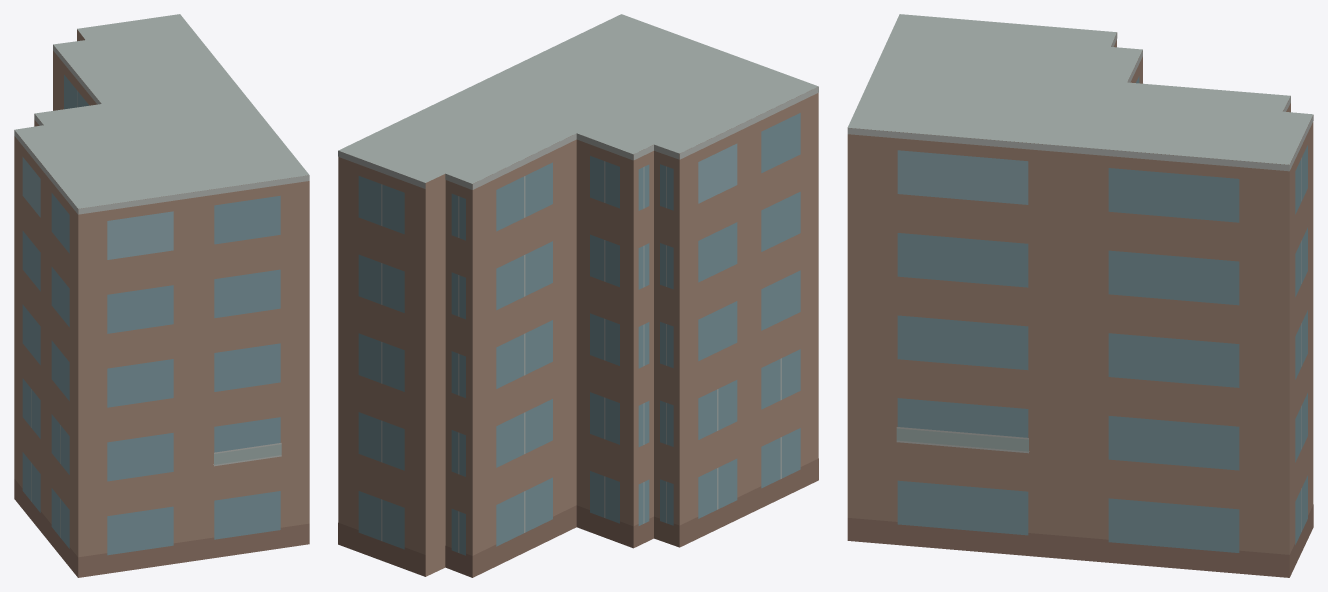
File: survey-upis-33027045.glb
3 renders of one model, left to right at view 1: azimuth 30°, elevation 25°; view 2: azimuth 150°, elevation 25°; view 3: azimuth 270°, elevation 25°, orthographic. The views are drawn at different scales.
Visible parts, largest first — view 1: survey-upis-33027045.tmp; view 2: survey-upis-33027045.tmp; view 3: survey-upis-33027045.tmp.
Part boxes in pixels (box(x1,y1,x2,y2)): survey-upis-33027045.tmp: box(14, 14, 309, 577); survey-upis-33027045.tmp: box(338, 14, 818, 577); survey-upis-33027045.tmp: box(847, 14, 1313, 577).
Bounding box in the file's own units: 12.23 × 15.6 × 15.96.
